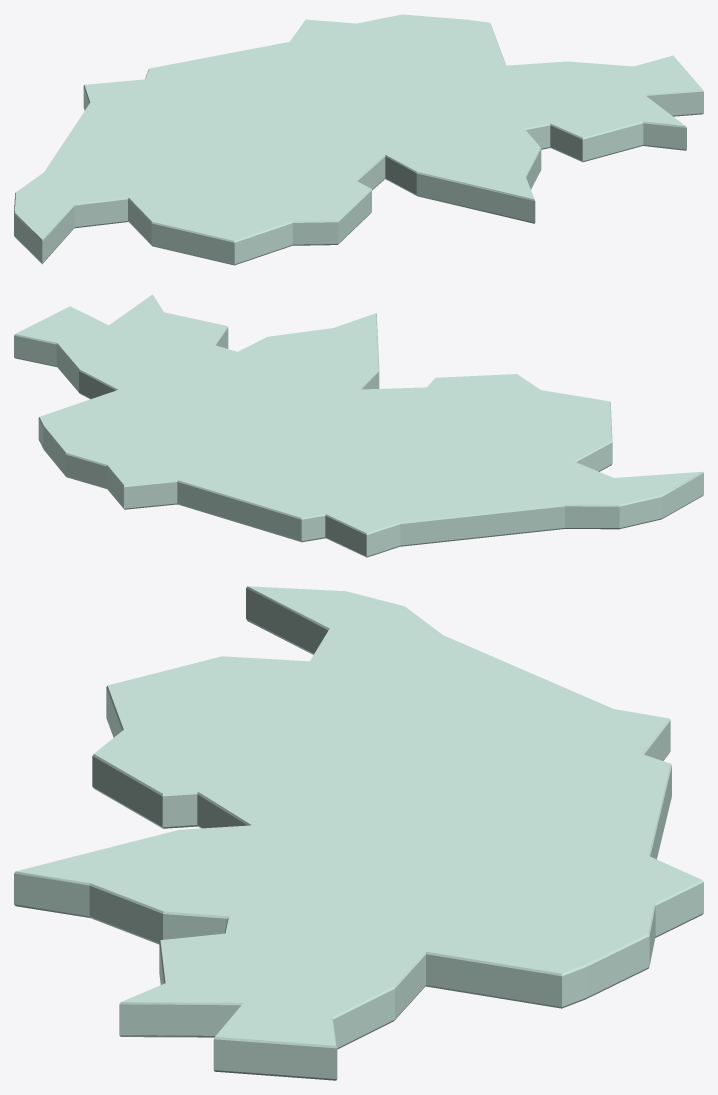
Rendered from CHE.glb.
The picture shows the model from 3 angles, top to bottom: view 1: azimuth 30°, elevation 25°; view 2: azimuth 150°, elevation 25°; view 3: azimuth 270°, elevation 25°; orthographic projection. The views are drawn at different scales.
Size of the model in its own units: 1.92 by 0.068 by 1.22.
